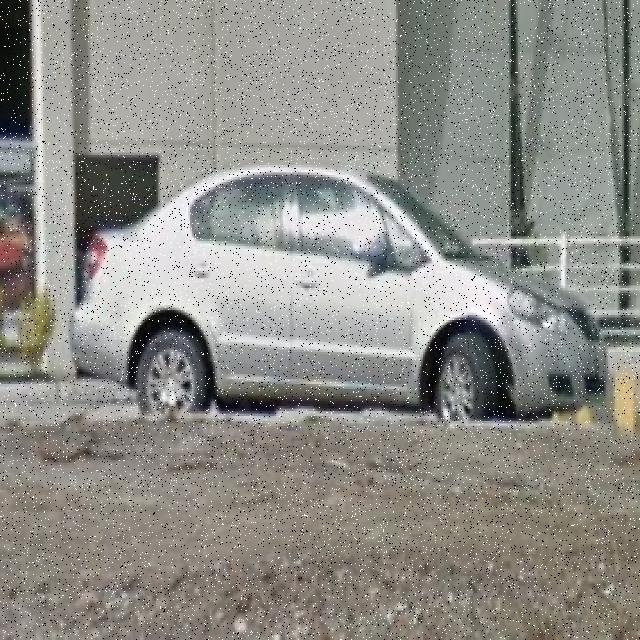cars: (70, 158, 612, 425)
